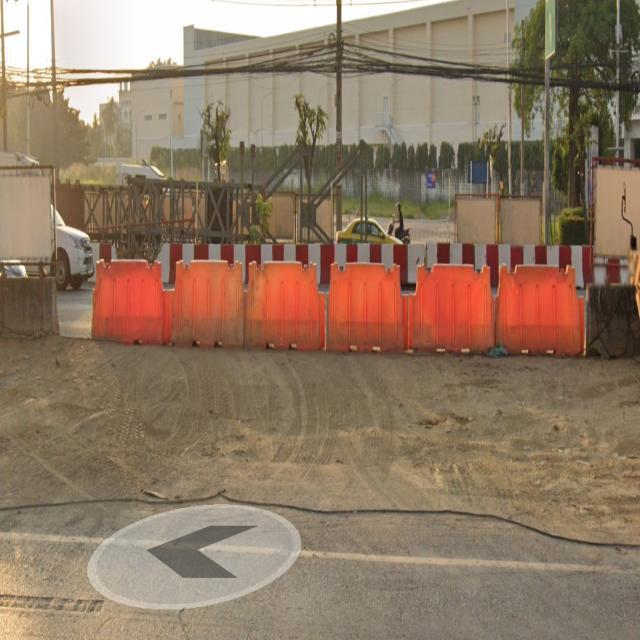fallen_object: (117, 220, 621, 281), (484, 250, 640, 371), (395, 239, 506, 372), (66, 245, 165, 362), (237, 239, 326, 365), (313, 237, 403, 360), (163, 249, 251, 372)
